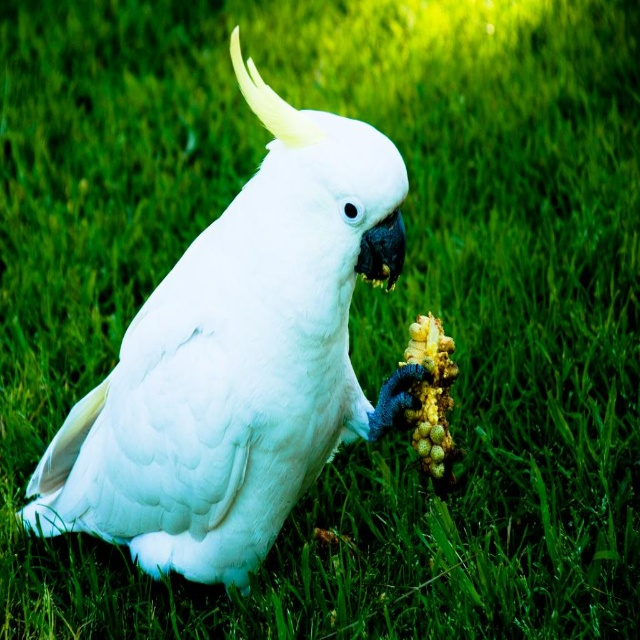Parrot: (15, 25, 434, 602)
